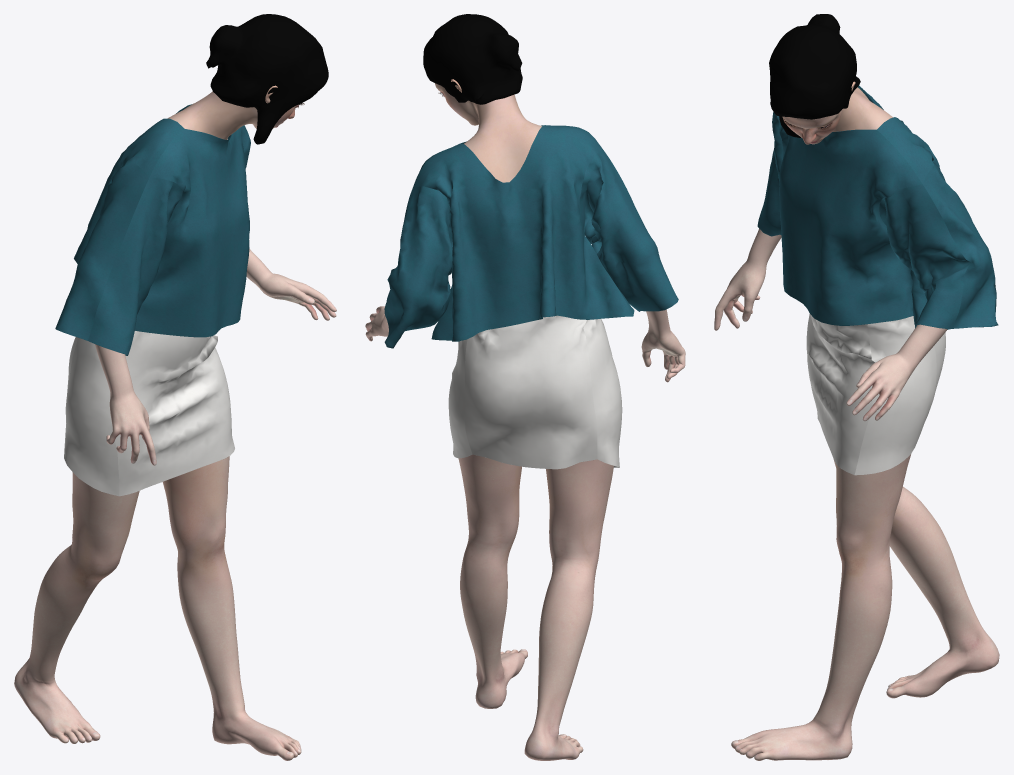
The model's file is Custom_View_0__random.obj.
3 renders of one model, left to right at view 1: azimuth 30°, elevation 25°; view 2: azimuth 150°, elevation 25°; view 3: azimuth 270°, elevation 25°, orthographic. The views are drawn at different scales.
Bounding box in the file's own units: 737 × 1681 × 585.
